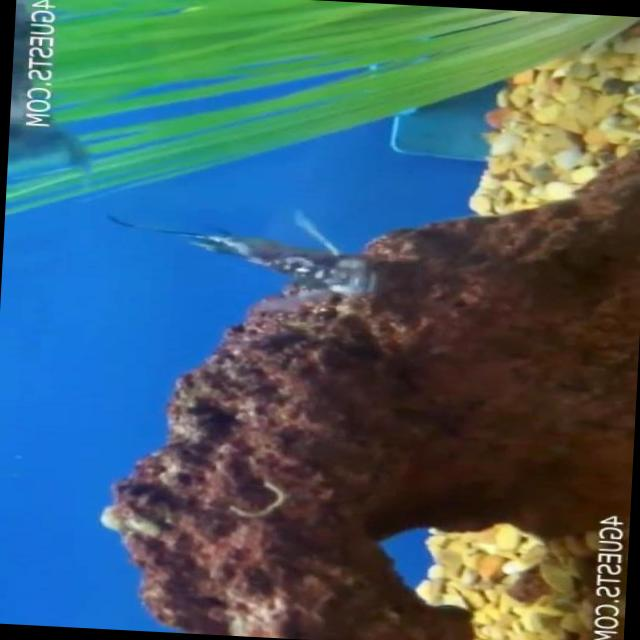PlatyFish: (86, 182, 432, 326)
